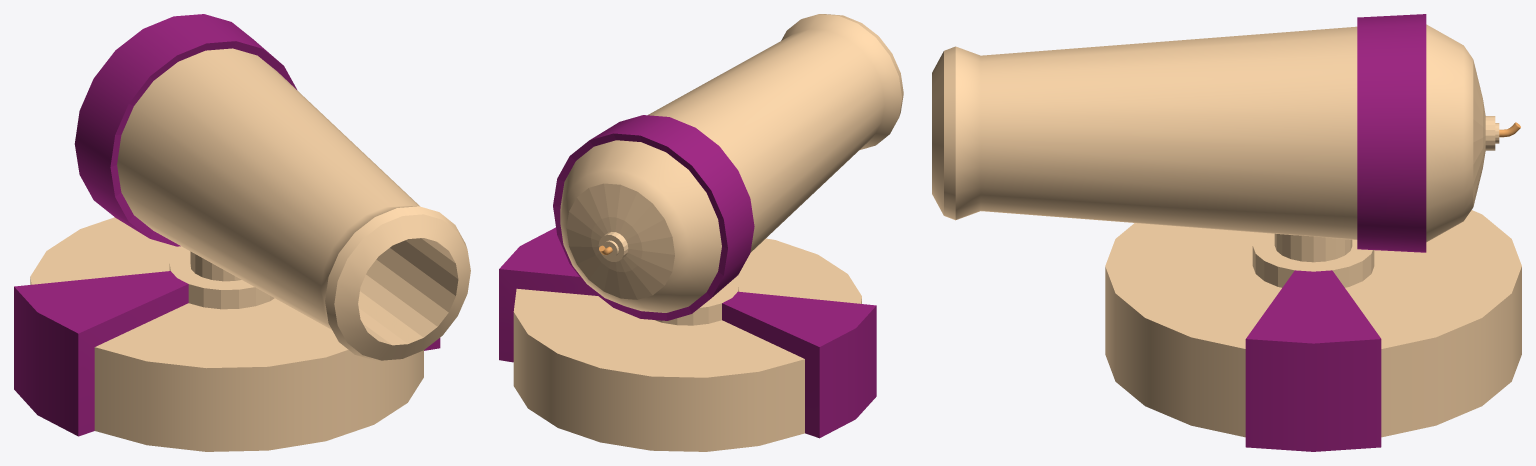
Rendered from Cannon_2.fbx.
3 renders of one model, left to right at view 1: azimuth 30°, elevation 25°; view 2: azimuth 150°, elevation 25°; view 3: azimuth 270°, elevation 25°, orthographic. The views are drawn at different scales.
Parts seen in each view (by area): view 1: Cannon, Base; view 2: Cannon, Base; view 3: Cannon, Base.
Part boxes in pixels (x1,y1,x2,y2): Cannon: [74, 14, 470, 360]; Base: [14, 217, 440, 451]; Cannon: [553, 14, 903, 320]; Base: [499, 227, 876, 451]; Cannon: [932, 14, 1520, 252]; Base: [1105, 210, 1521, 451].
Size of the model in its own units: 2.08 by 1.64 by 2.66.
